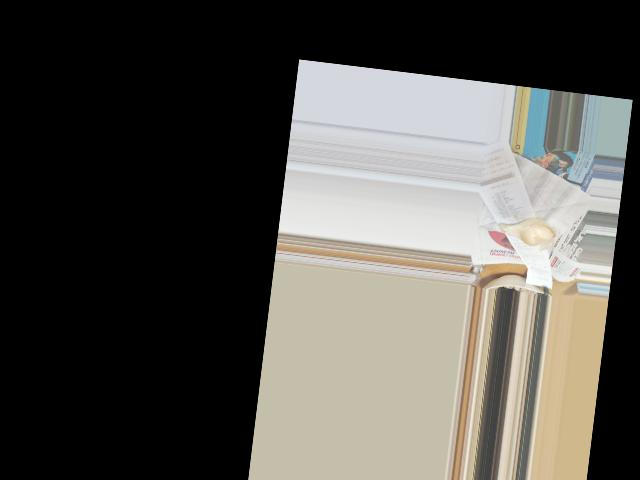onion: (500, 213, 556, 250)
